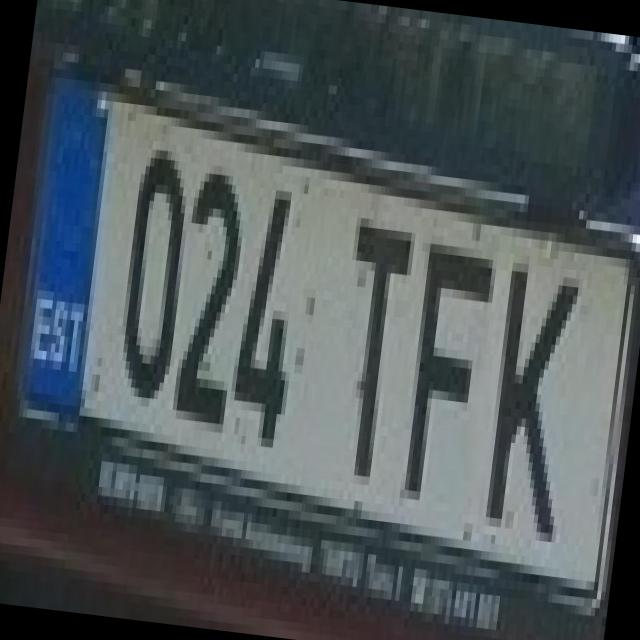0: (106, 130, 198, 400)
2: (159, 145, 256, 424)
4: (222, 170, 314, 440)
F: (383, 224, 500, 506)
K: (464, 243, 590, 534)
T: (310, 190, 420, 478)
